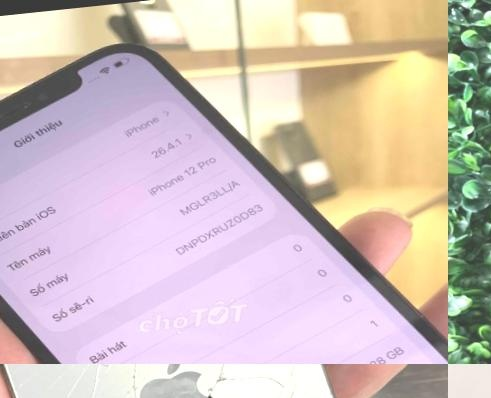physical_damage: (166, 364, 318, 398), (55, 372, 155, 398)
